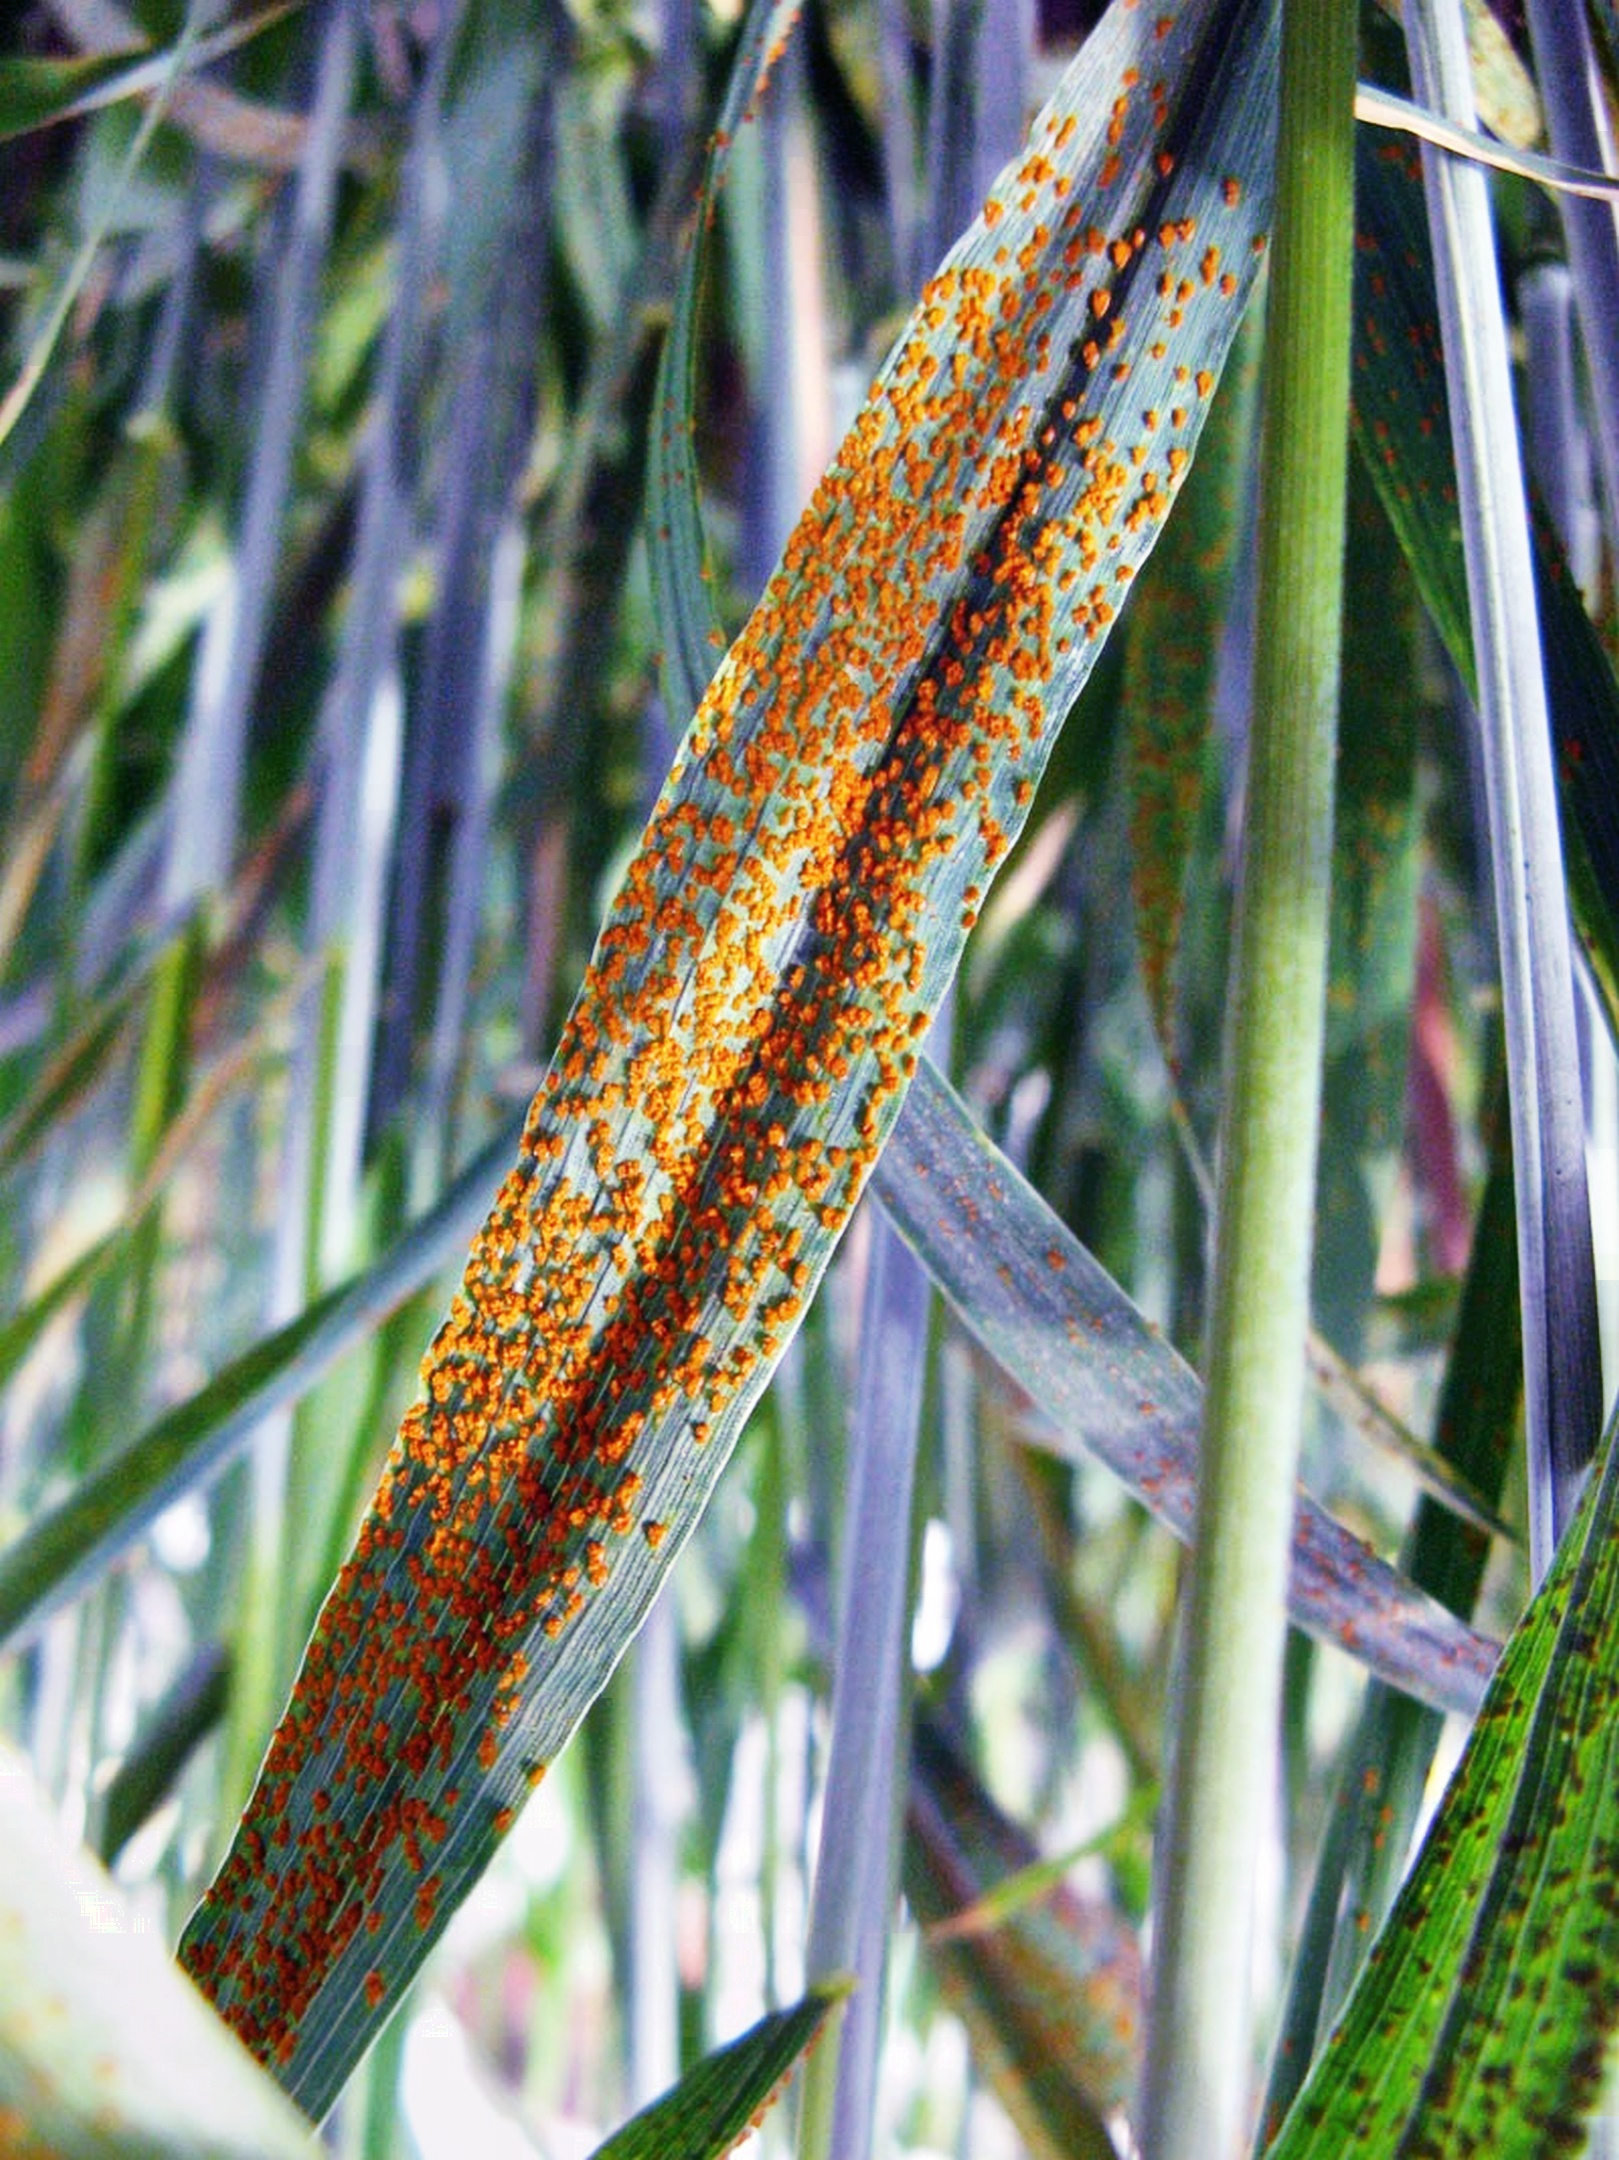Leaf Rust: (258, 247, 1196, 2012)
